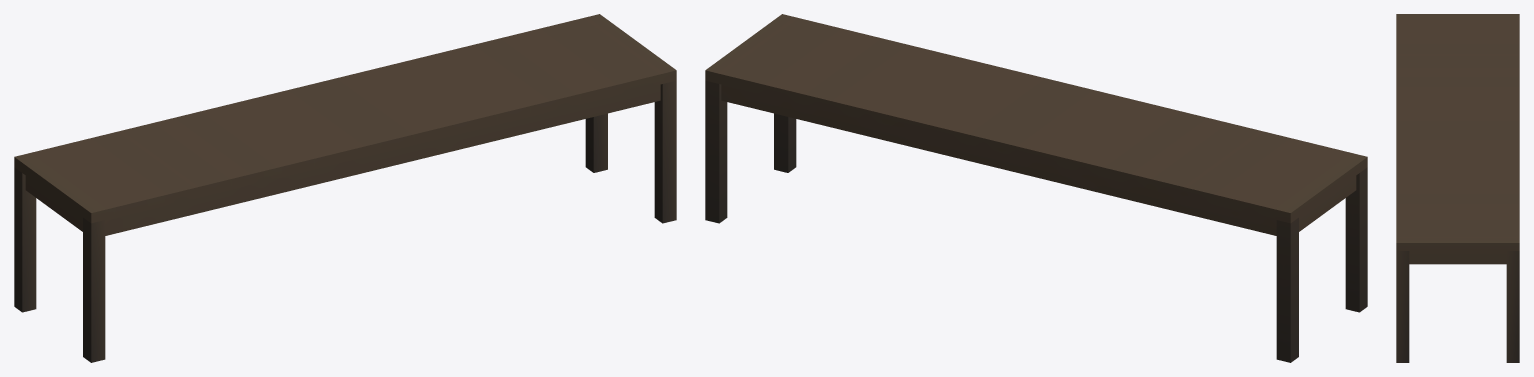
The model's file is Bench_Regular.fbx.
3 renders of one model, left to right at view 1: azimuth 30°, elevation 25°; view 2: azimuth 150°, elevation 25°; view 3: azimuth 270°, elevation 25°, orthographic. The views are drawn at different scales.
Parts seen in each view (by area): view 1: Bench_Regular; view 2: Bench_Regular; view 3: Bench_Regular.
Boxes of the visible parts, x1,y1,x2,y2 form: Bench_Regular: (14,14,676,362); Bench_Regular: (705,14,1367,362); Bench_Regular: (1396,14,1519,362).
Bounding box in the file's own units: 180 × 44 × 41.
